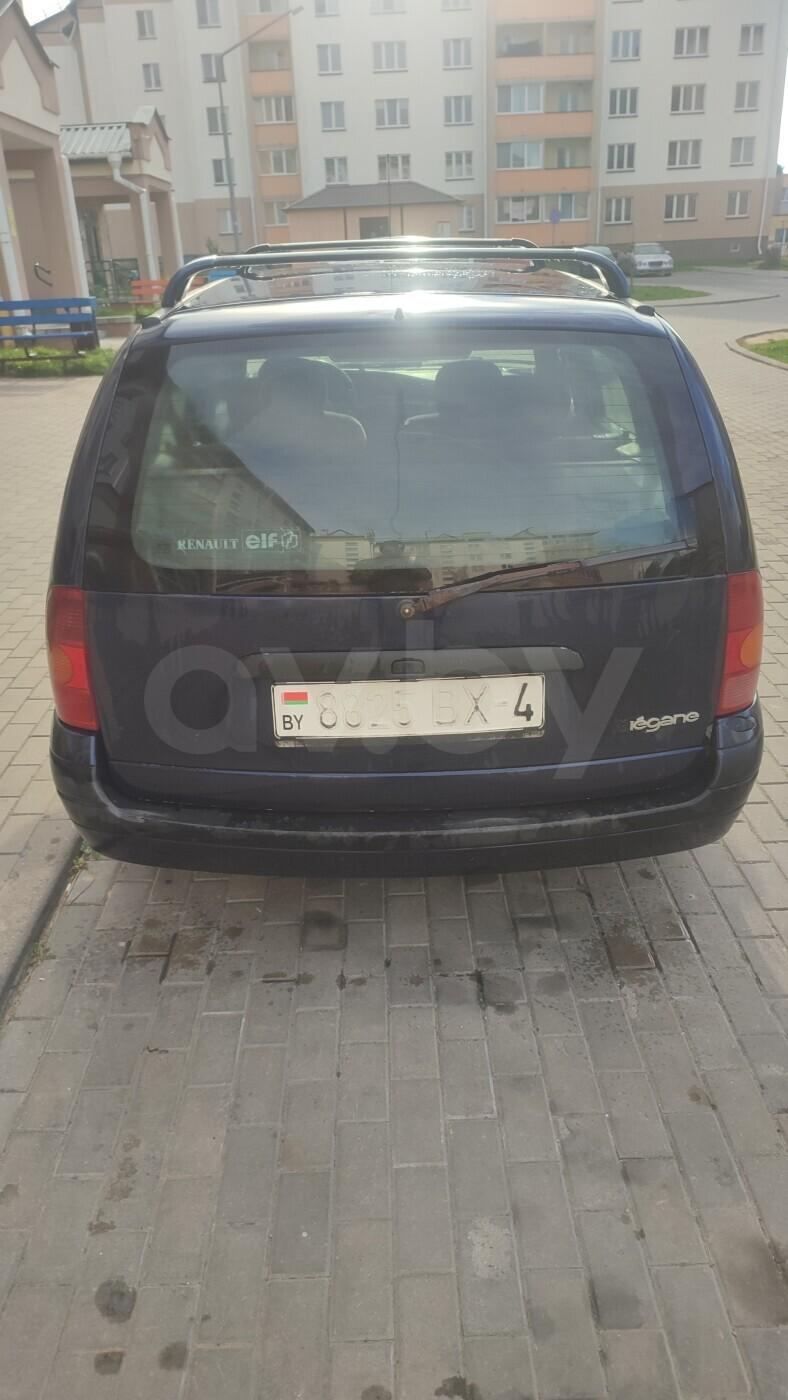Megane_1999-2003: (34, 252, 760, 886)
